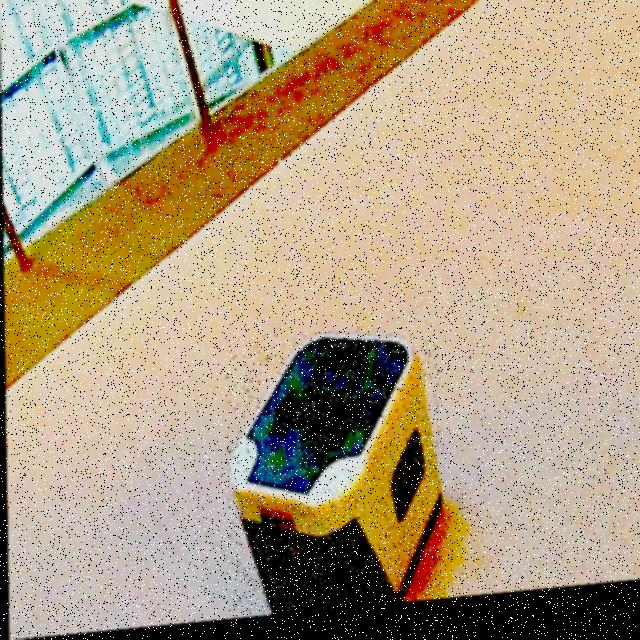adapter: (224, 326, 441, 623)
